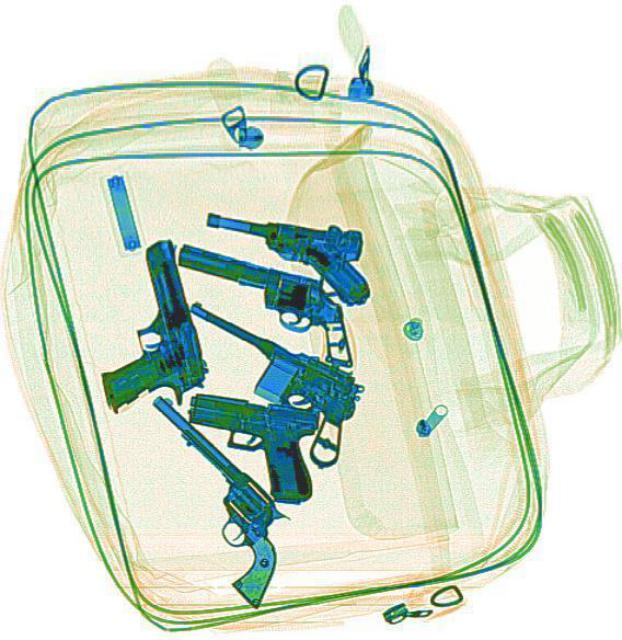Gun: (92, 388, 322, 610), (149, 286, 380, 469), (158, 242, 368, 366), (72, 234, 213, 416), (191, 203, 375, 305), (174, 388, 324, 504)
